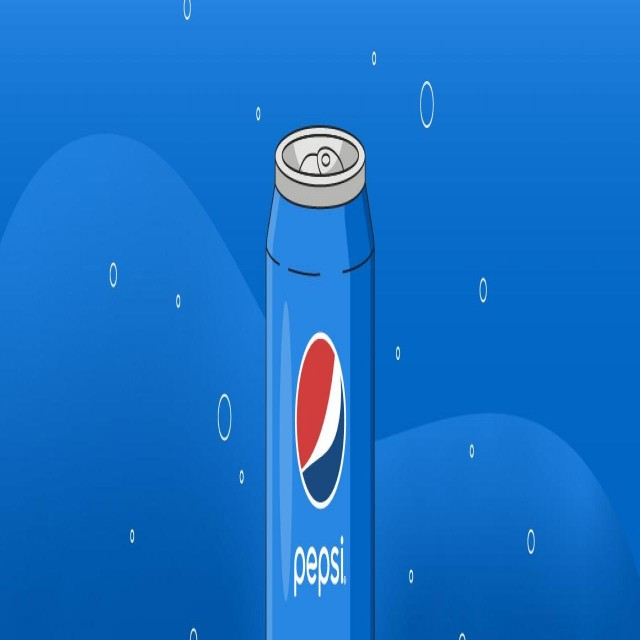pepsi: (294, 330, 348, 509)
